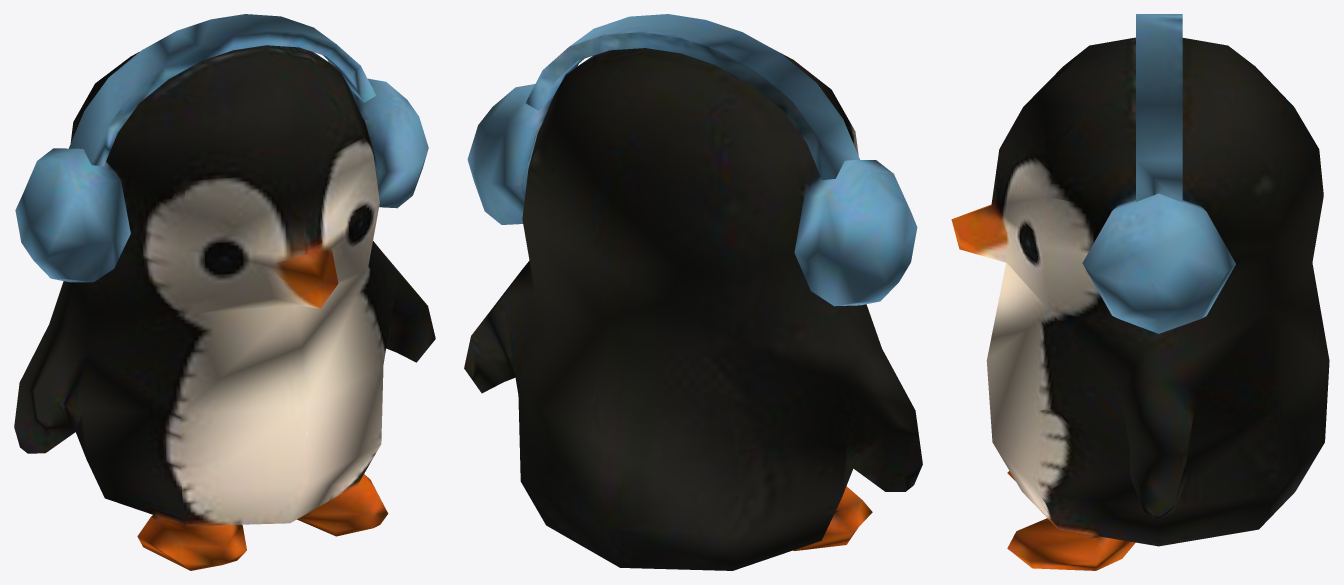
File: penguin-felt-01-12-blue-earmuff.gltf
The picture shows the model from 3 angles, left to right: view 1: azimuth 30°, elevation 25°; view 2: azimuth 150°, elevation 25°; view 3: azimuth 270°, elevation 25°; orthographic projection. The views are drawn at different scales.
Parts seen in each view (by area): view 1: penguin-felt-01-12-blue-earmuff; view 2: penguin-felt-01-12-blue-earmuff; view 3: penguin-felt-01-12-blue-earmuff.
Part boxes in pixels (bbox=[...]): penguin-felt-01-12-blue-earmuff: bbox=[14, 14, 435, 570]; penguin-felt-01-12-blue-earmuff: bbox=[464, 14, 922, 570]; penguin-felt-01-12-blue-earmuff: bbox=[951, 14, 1329, 570].
Size of the model in its own units: 0.2 by 0.2216 by 0.1562.
Materials: 1 (1 with a texture image).
